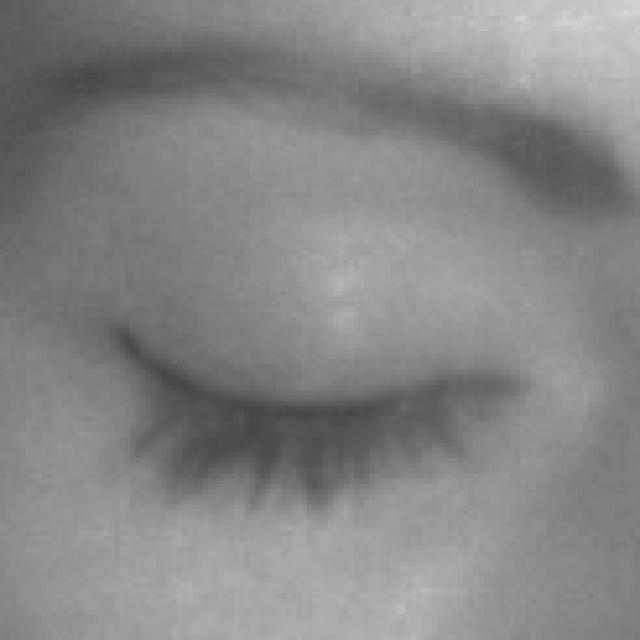close: (0, 25, 640, 610)
